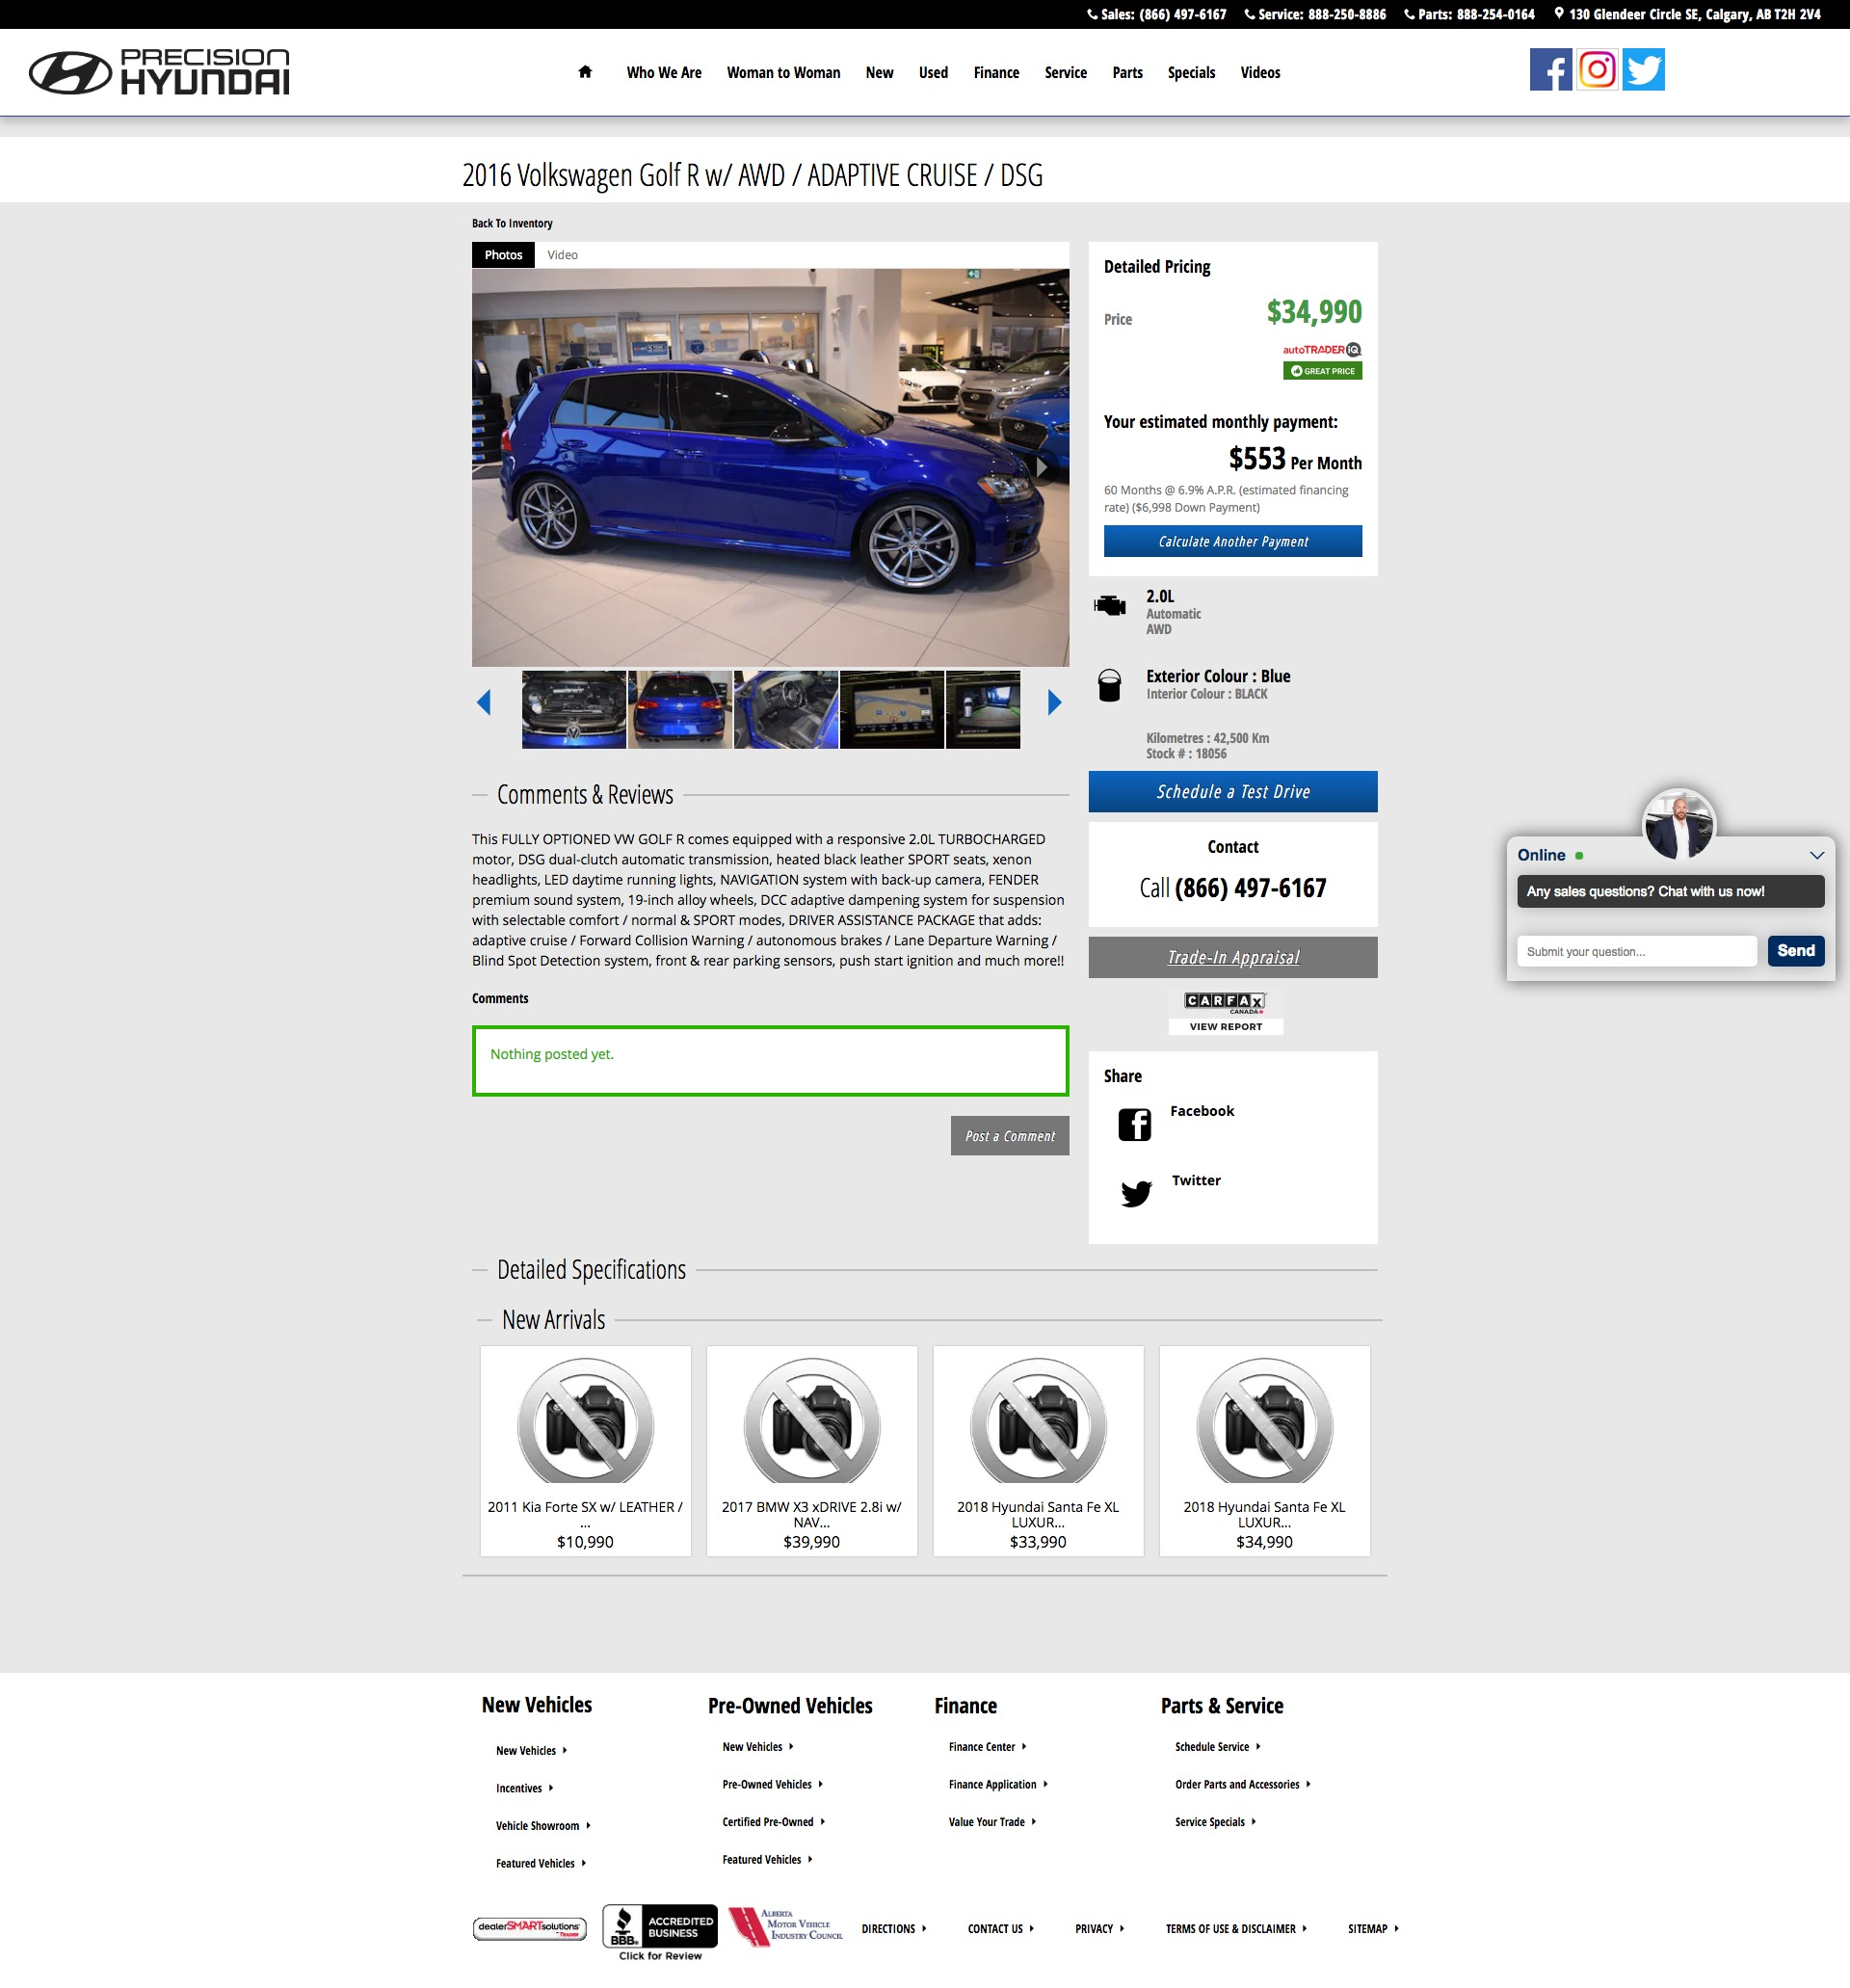car: (1047, 689, 1064, 720)
